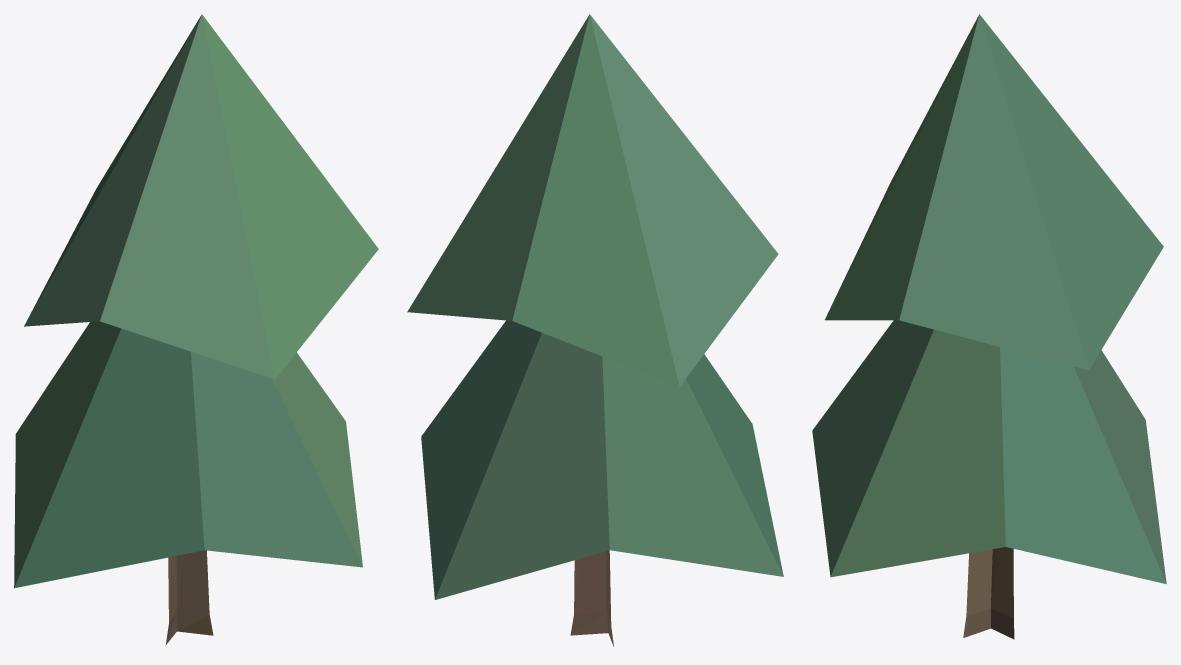
File: Tree_Pine_01_Far.glb
3 renders of one model, left to right at view 1: azimuth 30°, elevation 25°; view 2: azimuth 150°, elevation 25°; view 3: azimuth 270°, elevation 25°, orthographic.
Parts seen in each view (by area): view 1: Tree_Pine_01_Far; view 2: Tree_Pine_01_Far; view 3: Tree_Pine_01_Far.
Boxes of the visible parts, x1=… form: Tree_Pine_01_Far: x1=14, y1=14, x2=378, y2=645; Tree_Pine_01_Far: x1=407, y1=14, x2=783, y2=646; Tree_Pine_01_Far: x1=812, y1=14, x2=1166, y2=639.
Size of the model in its own units: 5 by 8.6 by 4.39.
